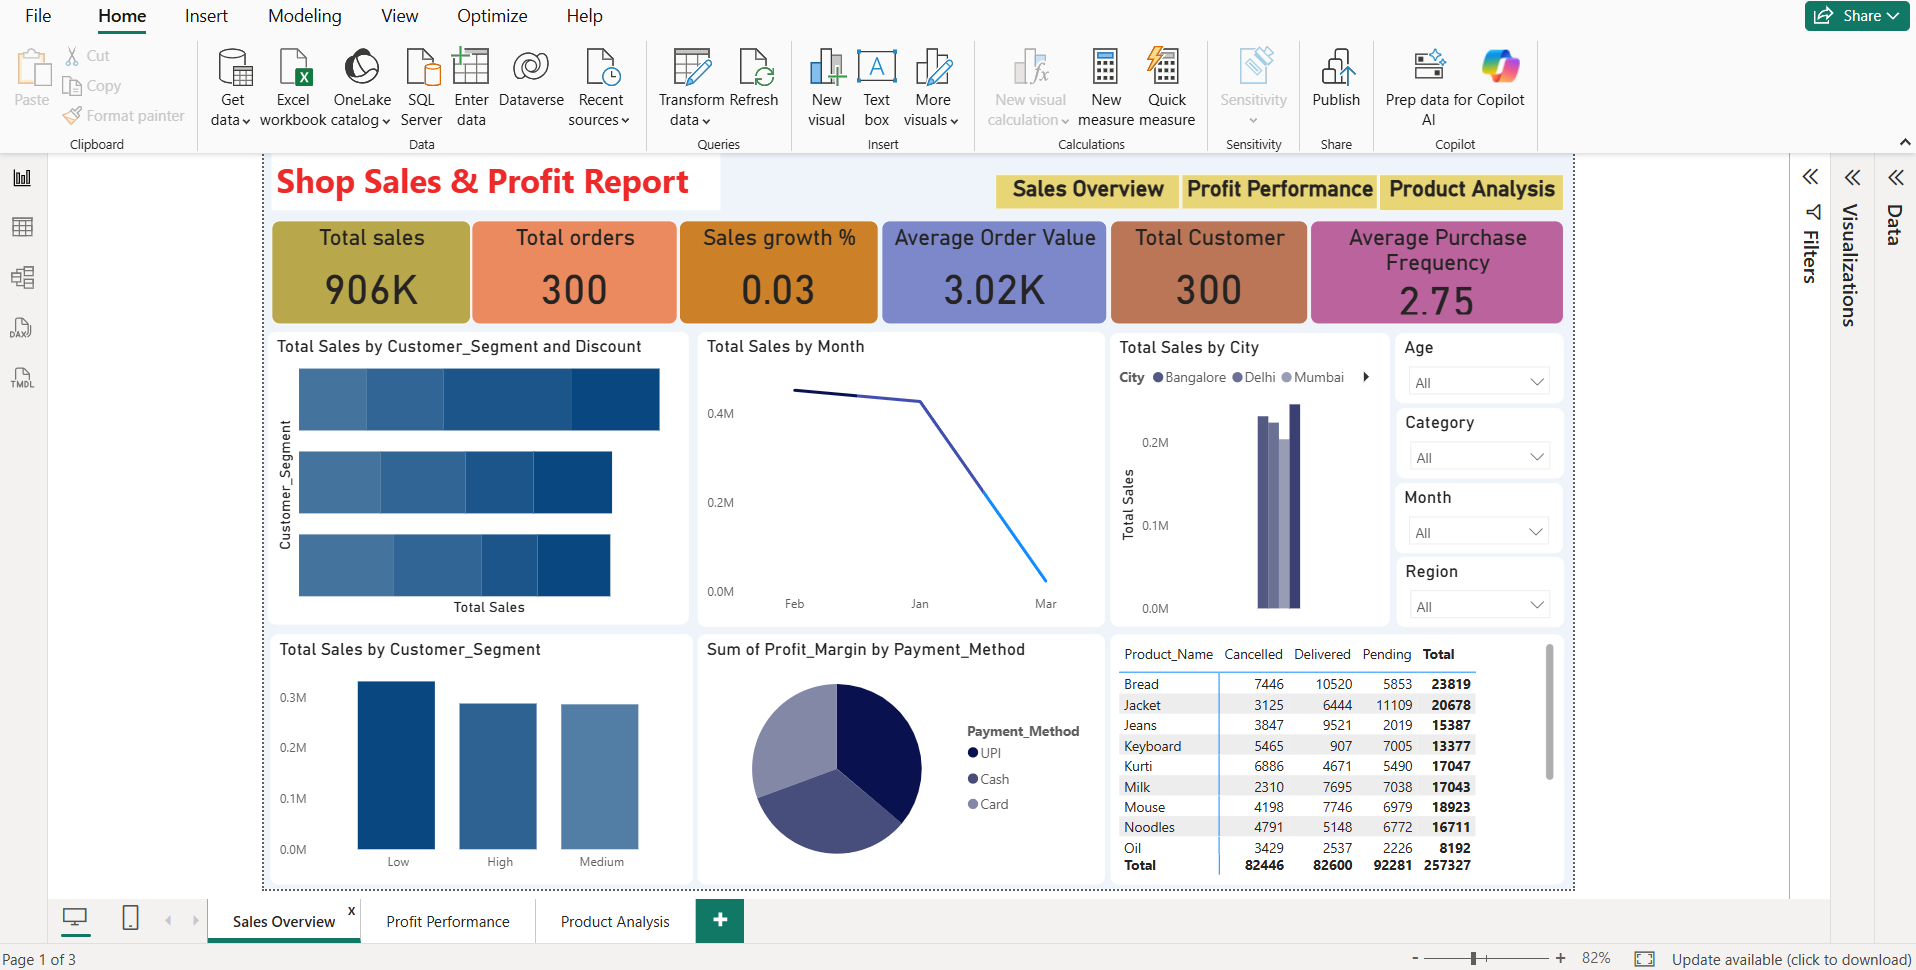

What the dashboard file says about the page in this screenshot:
{"tool":"powerbi","page":{"name":"Sales Overview","canvas":[1280,720],"ordinal":0},"visuals":[{"type":"card","title":"Total sales","fields":{"Values":["Sheet1.Total Sales"]},"box":[6.9,65.9,194.9,101.5],"z":0},{"type":"card","title":"Total orders","fields":{"Values":["Sheet1.Total Orders"]},"box":[203.1,65.9,201.7,101.5],"z":1000},{"type":"card","title":"Average Purchase Frequency","fields":{"Values":["Sheet1.average purchase frequency"]},"box":[1023.7,65.9,248.4,101.5],"z":2000},{"type":"card","title":"Average Order Value","fields":{"Values":["Sheet1.AOV"]},"box":[603.8,65.9,220.9,101.5],"z":3000},{"type":"card","title":"Sales growth %","fields":{"Values":["Sheet1.Sales Growth%"]},"box":[406.2,65.9,194.9,101.5],"z":4000},{"type":"actionButton","title":"Sales Overview","box":[714.9,20.6,181.1,34.3],"z":5000},{"type":"actionButton","title":"Product Analysis","box":[1090.9,20.6,181.1,35.7],"z":6000},{"type":"actionButton","title":"Profit Performance","box":[897.4,20.6,192.1,34.3],"z":7000},{"type":"card","title":"Total Customer","fields":{"Values":["Sheet1.Total Customer"]},"box":[827.4,65.9,193.5,101.5],"z":8000},{"type":"lineChart","title":"Total Sales by Month","fields":{"Category":["Sheet1.Month_Name"],"Y":["Sheet1.Total Sales"]},"box":[424.3,174.9,398.6,288.6],"z":9000},{"type":"barChart","fields":{"Y":["Sheet1.Total Sales"],"Category":["Sheet1.Customer_Segment"],"Series":["Sheet1.Discount"]},"box":[3.7,174.9,412.1,286.1],"z":10000},{"type":"slicer","title":"Month","fields":{"Values":["Sheet1.Month_Name"]},"box":[1106.7,322.8,163.9,68.5],"z":11000},{"type":"slicer","title":"Category","fields":{"Values":["Sheet1.Product_Category"]},"box":[1107.9,249.5,163.9,68.5],"z":12000},{"type":"slicer","title":"Region","fields":{"Values":["Sheet1.Region"]},"box":[1107.9,395,163.9,68.5],"z":13000},{"type":"clusteredColumnChart","fields":{"Series":["Sheet1.City"],"Y":["Sheet1.Total Sales"]},"box":[827.9,176.1,273.9,287.4],"z":14000},{"type":"pieChart","fields":{"Y":["Sum(Sheet1.Profit_Margin)"],"Category":["Sheet1.Payment_Method"]},"box":[424.3,470.8,398.6,244.6],"z":15000},{"type":"pivotTable","fields":{"Rows":["Sheet1.Product_Name"],"Values":["Sum(Sheet1.Profit)"],"Columns":["Sheet1.Delivery_Status"]},"box":[827.9,470.8,443.9,244.6],"z":16000},{"type":"columnChart","fields":{"Category":["Sheet1.Customer_Segment"],"Y":["Sheet1.Total Sales"]},"box":[6.1,470.8,413.3,244.6],"z":17000},{"type":"slicer","title":"Age","fields":{"Values":["Sheet1.Month_Name"]},"box":[1106.7,176.1,165.1,68.5],"z":18000},{"type":"textbox","box":[7.3,0,439,56.3],"z":18001}]}

Visuals, with their boxes on the page's 1280x720 design canvas (x1, y1, x2, y2). These are canvas units, not pixel positions in the 1916x970 screenshot, which may show the page scaled, cropped or inside an application window:
"Total sales" card: x1=7, y1=66, x2=202, y2=167
"Total orders" card: x1=203, y1=66, x2=405, y2=167
"Average Purchase Frequency" card: x1=1024, y1=66, x2=1272, y2=167
"Average Order Value" card: x1=604, y1=66, x2=825, y2=167
"Sales growth %" card: x1=406, y1=66, x2=601, y2=167
"Sales Overview" actionButton: x1=715, y1=21, x2=896, y2=55
"Product Analysis" actionButton: x1=1091, y1=21, x2=1272, y2=56
"Profit Performance" actionButton: x1=897, y1=21, x2=1090, y2=55
"Total Customer" card: x1=827, y1=66, x2=1021, y2=167
"Total Sales by Month" lineChart: x1=424, y1=175, x2=823, y2=464
barChart - Sheet1.Total Sales x Sheet1.Customer_Segment: x1=4, y1=175, x2=416, y2=461
"Month" slicer: x1=1107, y1=323, x2=1271, y2=391
"Category" slicer: x1=1108, y1=250, x2=1272, y2=318
"Region" slicer: x1=1108, y1=395, x2=1272, y2=464
clusteredColumnChart - Sheet1.City x Sheet1.Total Sales: x1=828, y1=176, x2=1102, y2=464
pieChart - Sum(Sheet1.Profit_Margin) x Sheet1.Payment_Method: x1=424, y1=471, x2=823, y2=715
pivotTable - Sheet1.Product_Name x Sum(Sheet1.Profit): x1=828, y1=471, x2=1272, y2=715
columnChart - Sheet1.Customer_Segment x Sheet1.Total Sales: x1=6, y1=471, x2=419, y2=715
"Age" slicer: x1=1107, y1=176, x2=1272, y2=245
textbox: x1=7, y1=0, x2=446, y2=56
